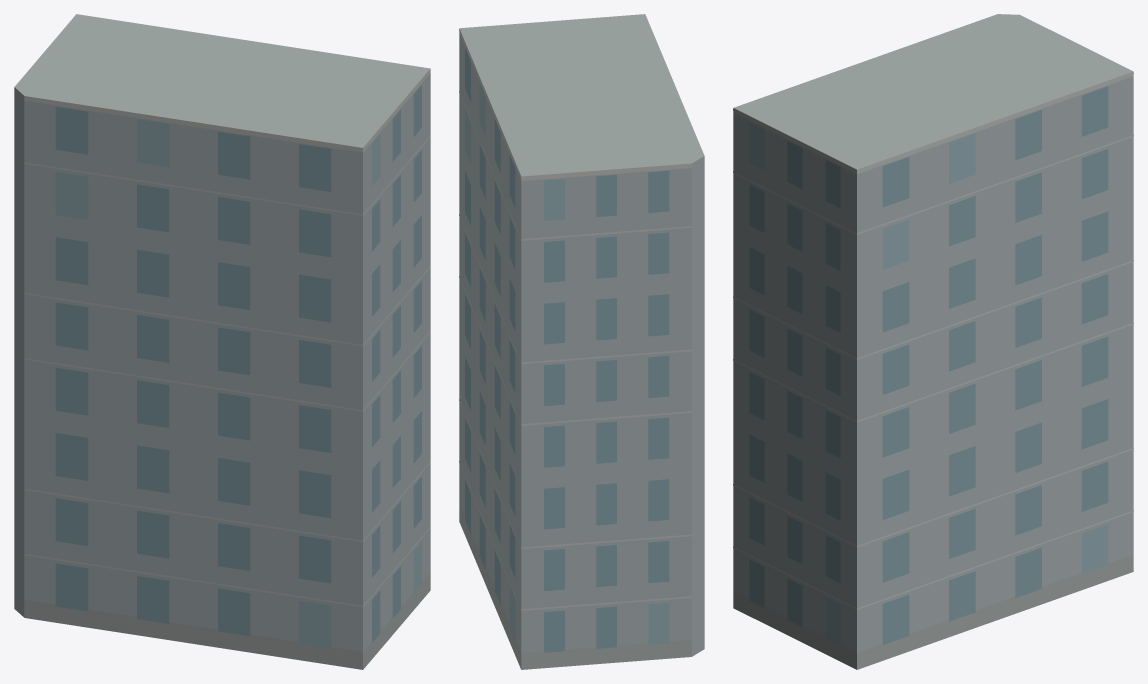
The model's file is survey-upis-32931681.glb.
3 views of the same model, side by side, from view 1: azimuth 30°, elevation 25°; view 2: azimuth 150°, elevation 25°; view 3: azimuth 270°, elevation 25° (orthographic). The views are drawn at different scales.
Visible parts, largest first — view 1: survey-upis-32931681.tmp; view 2: survey-upis-32931681.tmp; view 3: survey-upis-32931681.tmp.
Boxes of the visible parts, bbox=[...] form: survey-upis-32931681.tmp: bbox=[14, 14, 430, 669]; survey-upis-32931681.tmp: bbox=[459, 14, 704, 669]; survey-upis-32931681.tmp: bbox=[733, 14, 1133, 669].
Size of the model in its own units: 17.7 by 26.5 by 19.24.
